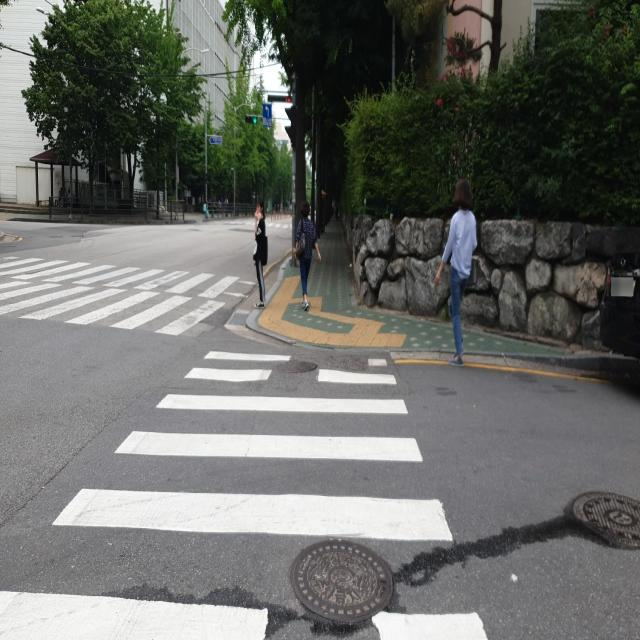횡단보도: (0, 343, 490, 640), (0, 252, 262, 338)
